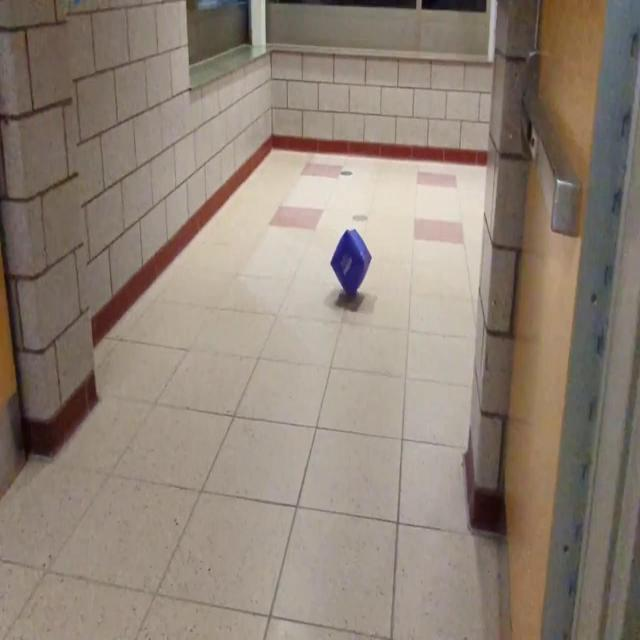frc_cube: (329, 228, 371, 296)
